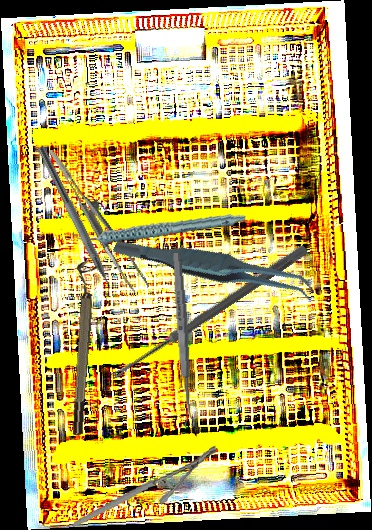Chopper: (26, 145, 122, 306)
Fixation Ring: (62, 259, 101, 436)
Handpiece: (70, 195, 247, 259)
Needle Holder: (64, 445, 226, 527)
Surgical Spoon: (109, 243, 309, 383), (170, 252, 196, 428)
Tissue Forceps: (111, 198, 319, 338), (48, 136, 150, 302)
